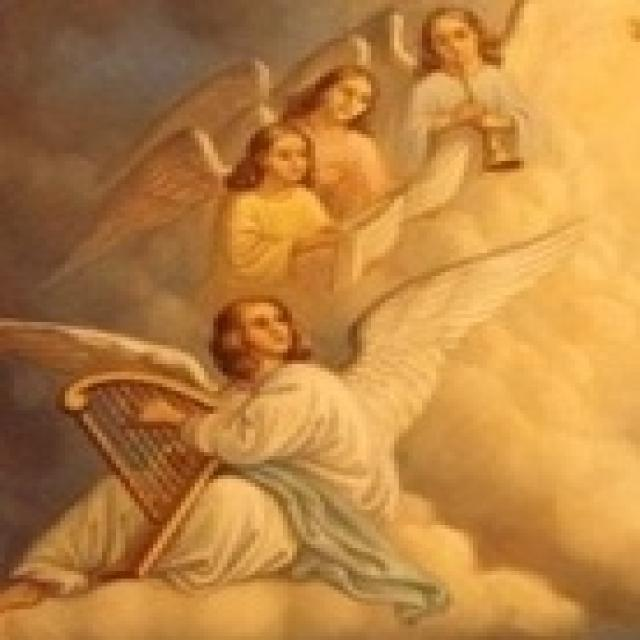angel: (2, 274, 521, 640), (363, 11, 622, 238)
